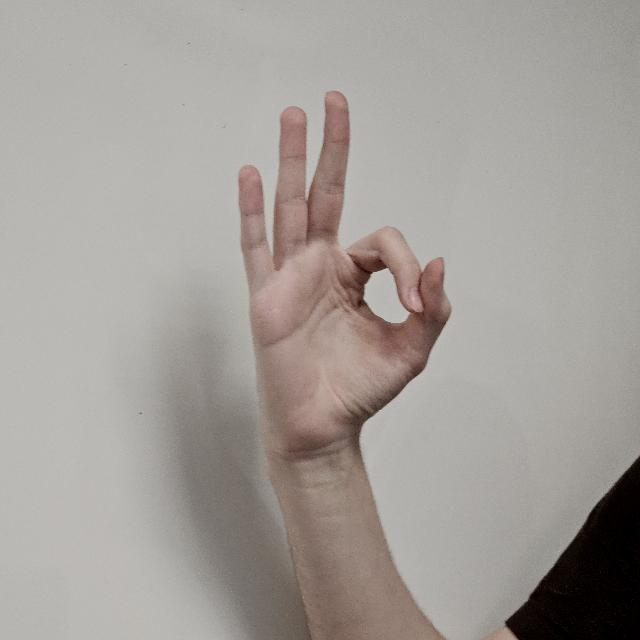Bolinha: (236, 86, 452, 452)
